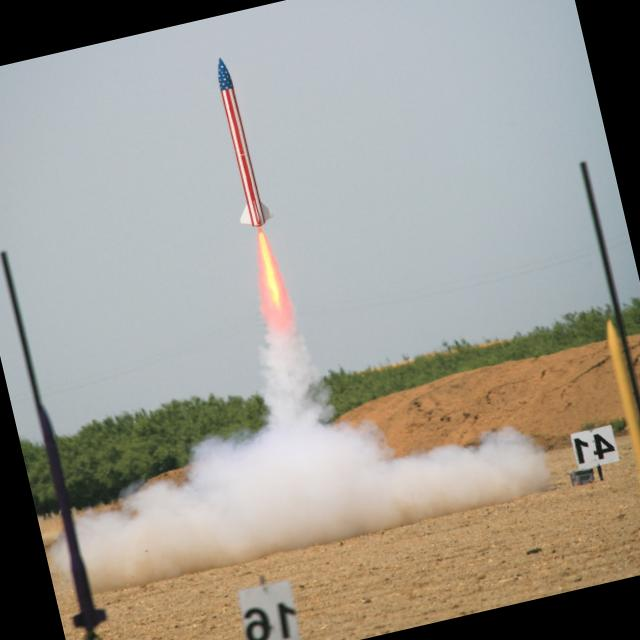rocket: (199, 37, 309, 346)
